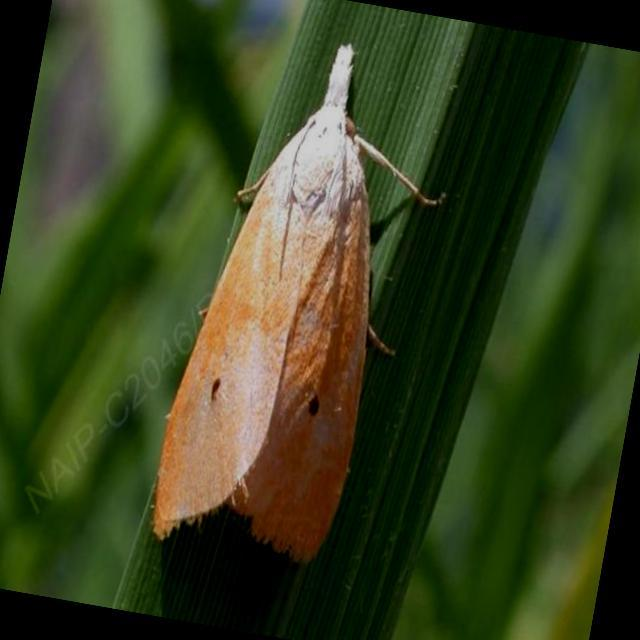stem borer: (153, 44, 435, 561)
